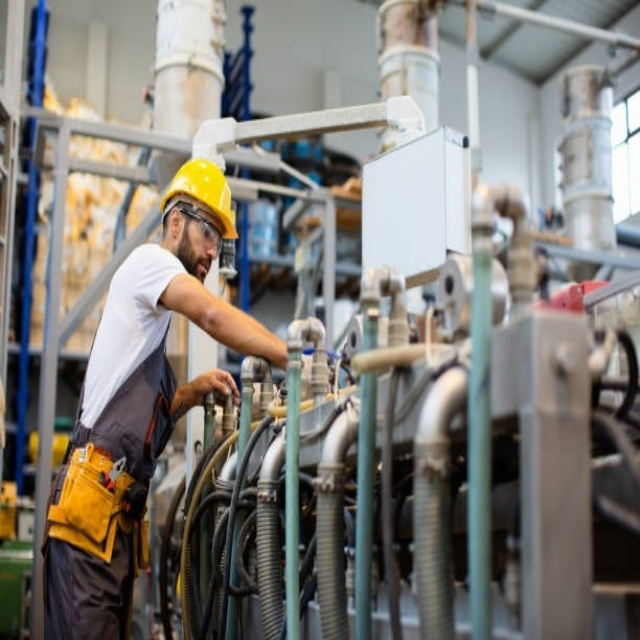Gafas: (170, 204, 223, 258)
Sin_guantes: (189, 368, 242, 414)
Sin_mascara: (189, 253, 214, 282)
